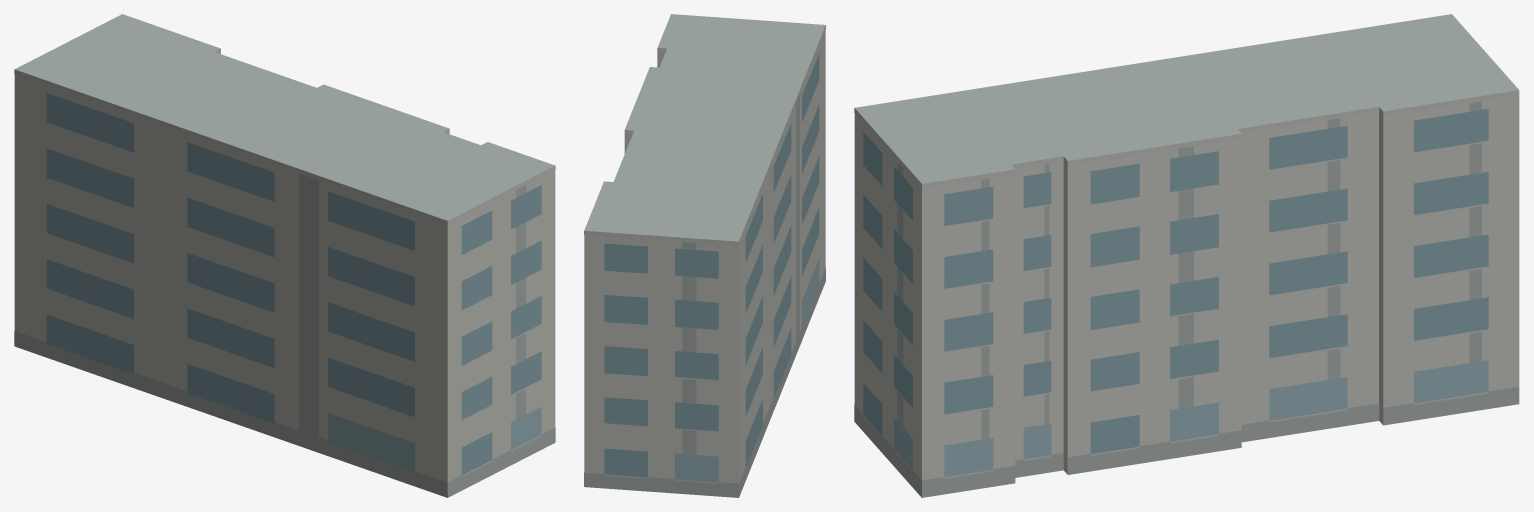
The model's file is survey-upis-32563604.glb.
3 renders of one model, left to right at view 1: azimuth 30°, elevation 25°; view 2: azimuth 150°, elevation 25°; view 3: azimuth 270°, elevation 25°, orthographic. The views are drawn at different scales.
Parts seen in each view (by area): view 1: survey-upis-32563604.tmp; view 2: survey-upis-32563604.tmp; view 3: survey-upis-32563604.tmp.
Part boxes in pixels (x1,y1,x2,y2): survey-upis-32563604.tmp: (14,14,555,497); survey-upis-32563604.tmp: (584,14,825,497); survey-upis-32563604.tmp: (854,14,1519,497).
Bounding box in the file's own units: 16.95 × 14.6 × 28.02.
